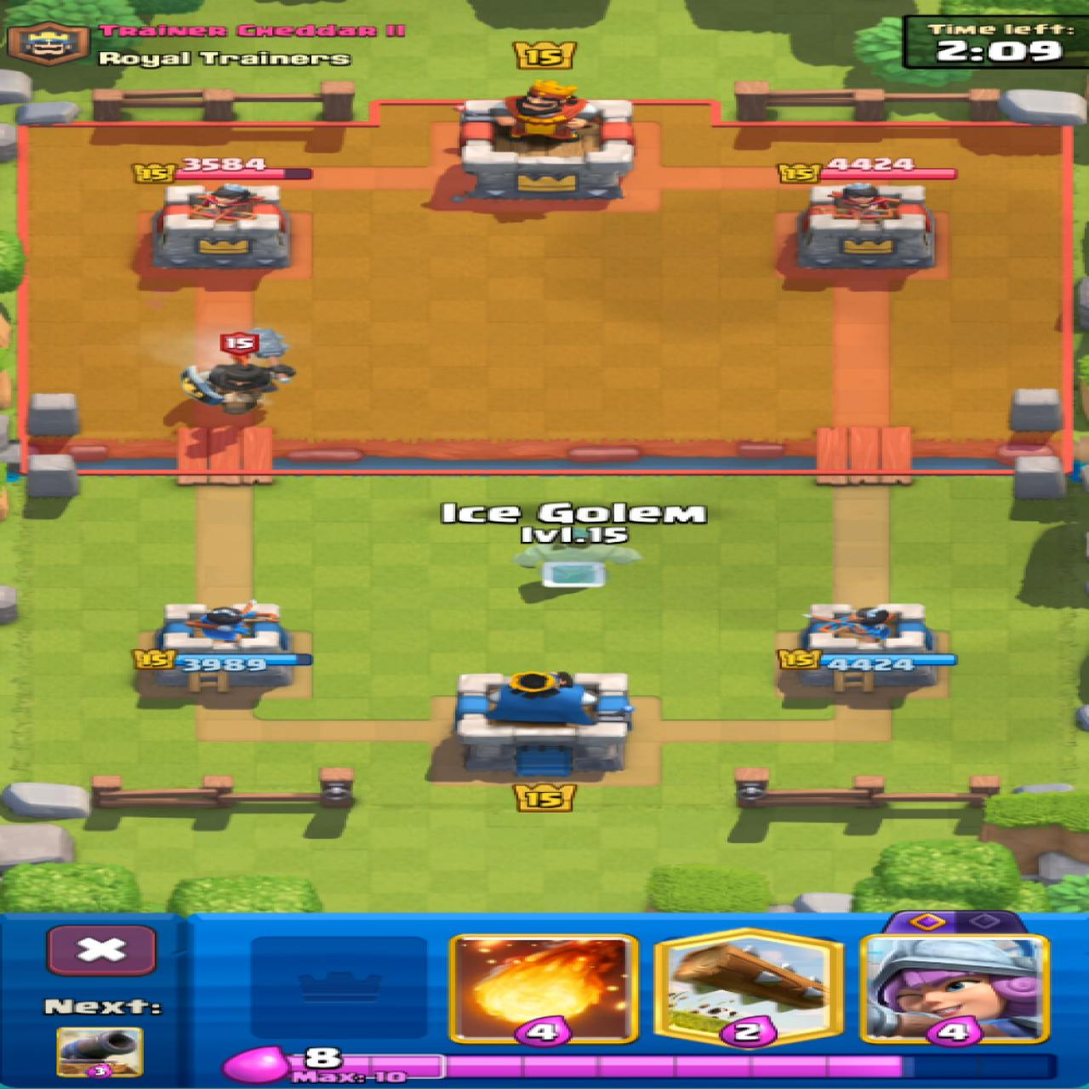Enemy-DarkPrince-Shield-Charge: (181, 329, 294, 414)
Enemy-KingTower: (455, 79, 632, 198)
Enemy-PrincessTower: (797, 183, 932, 268), (152, 184, 290, 267)
